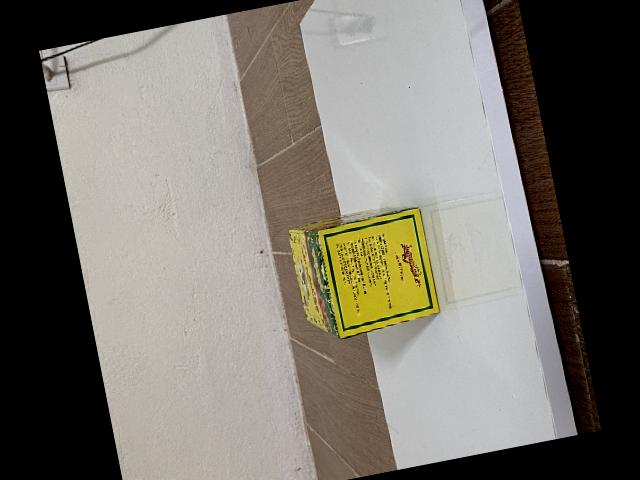luong_kho: (289, 205, 439, 337)
